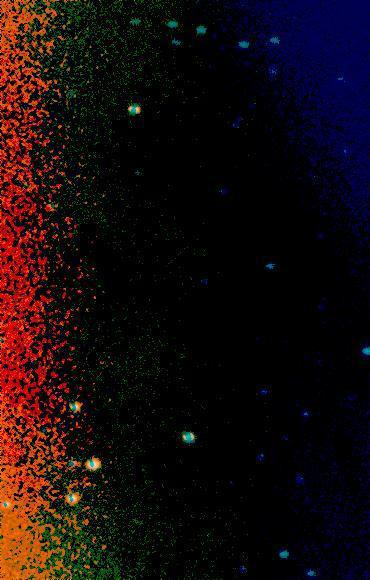star: (157, 127, 187, 157)
